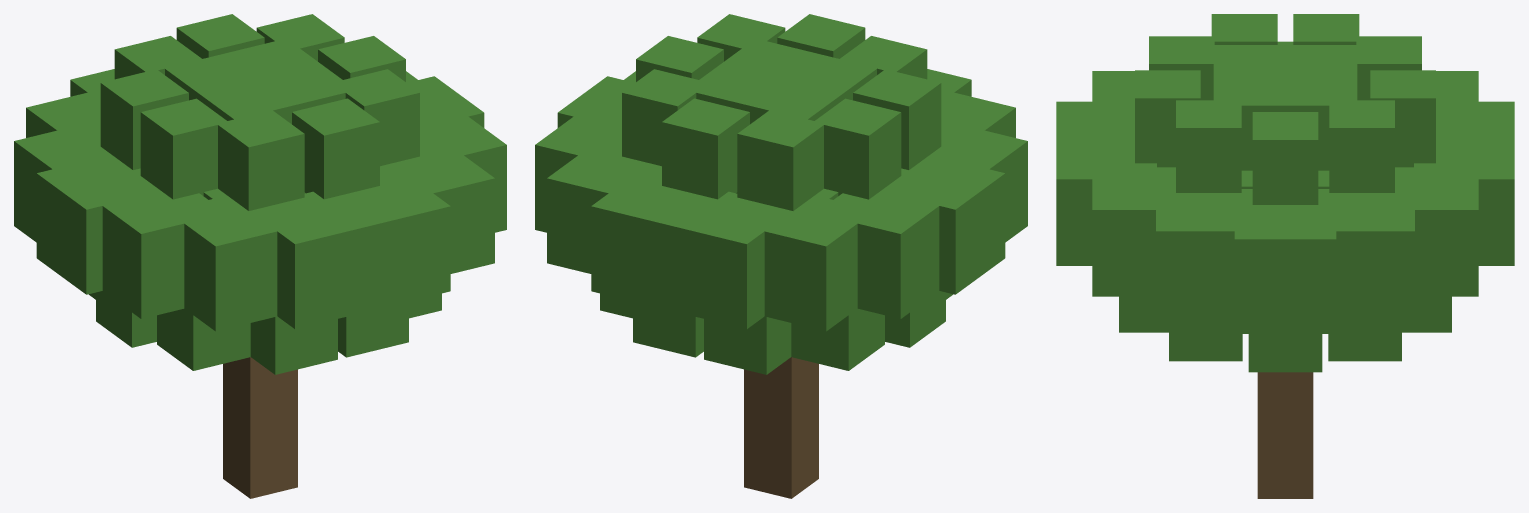
File: tree_round_0.glb
3 views of the same model, side by side, from view 1: azimuth 30°, elevation 25°; view 2: azimuth 150°, elevation 25°; view 3: azimuth 270°, elevation 25° (orthographic).
Parts seen in each view (by area): view 1: body; view 2: body; view 3: body.
Part boxes in pixels (x1,y1,x2,y2): body: (14, 14, 506, 498); body: (535, 14, 1027, 498); body: (1056, 14, 1514, 498).
Size of the model in its own units: 4.7 by 4.56 by 4.6.
